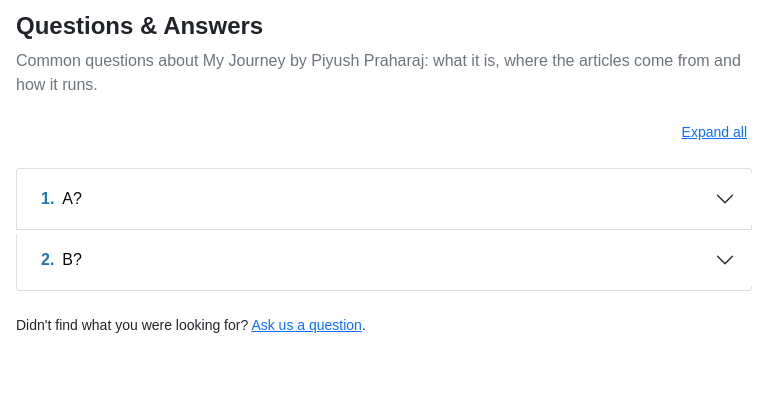
Test: InterviewQA › expands and collapses every question
This screenshot has width=772, height=414.
Click the button "Expand all" at (714,132), box x1=681 y1=117 x2=748 y2=148
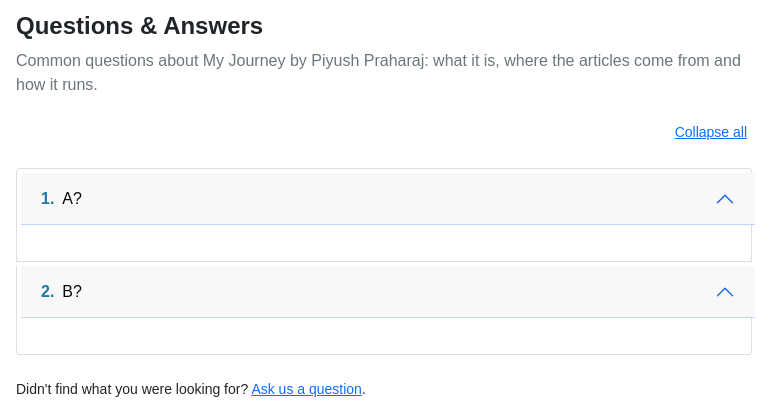
Now the button "1. A?" is expanded, box x1=21 y1=173 x2=755 y2=225
Now the button "2. B?" is expanded, box x1=21 y1=266 x2=755 y2=318
Click the button "Collapse all" at (711,132), box x1=674 y1=117 x2=748 y2=148
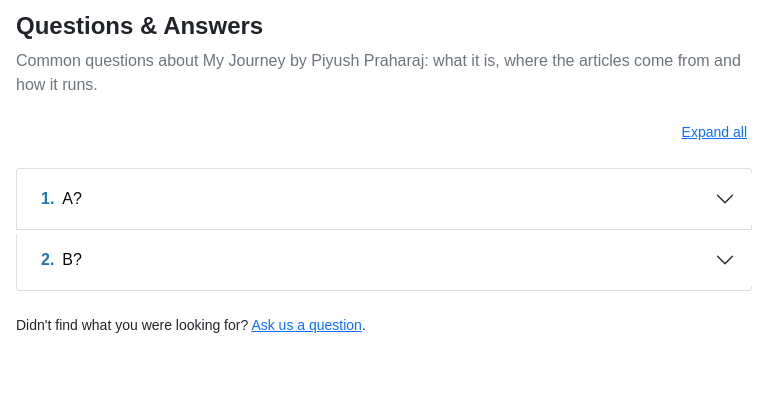
Now the button "1. A?" is collapsed, box x1=21 y1=173 x2=755 y2=225
Now the button "2. B?" is collapsed, box x1=21 y1=234 x2=755 y2=286
